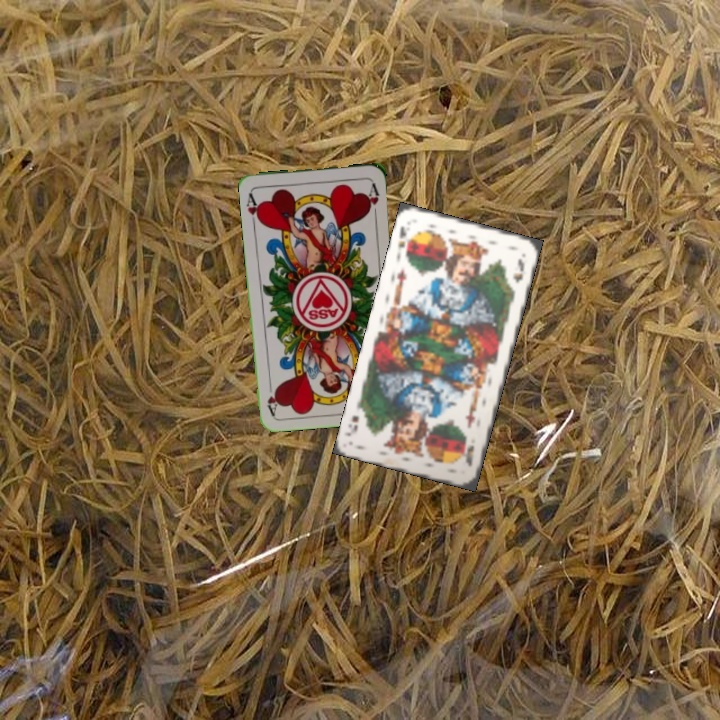HA: (243, 189, 264, 228)
SK: (393, 222, 414, 259), (461, 442, 477, 469)
